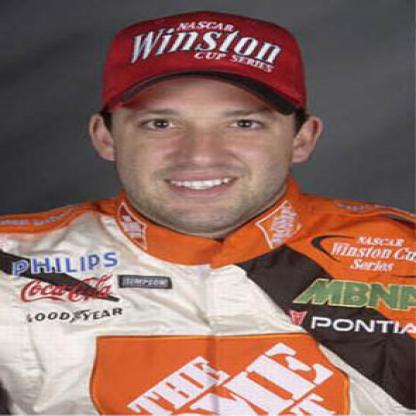face: (113, 21, 298, 232)
